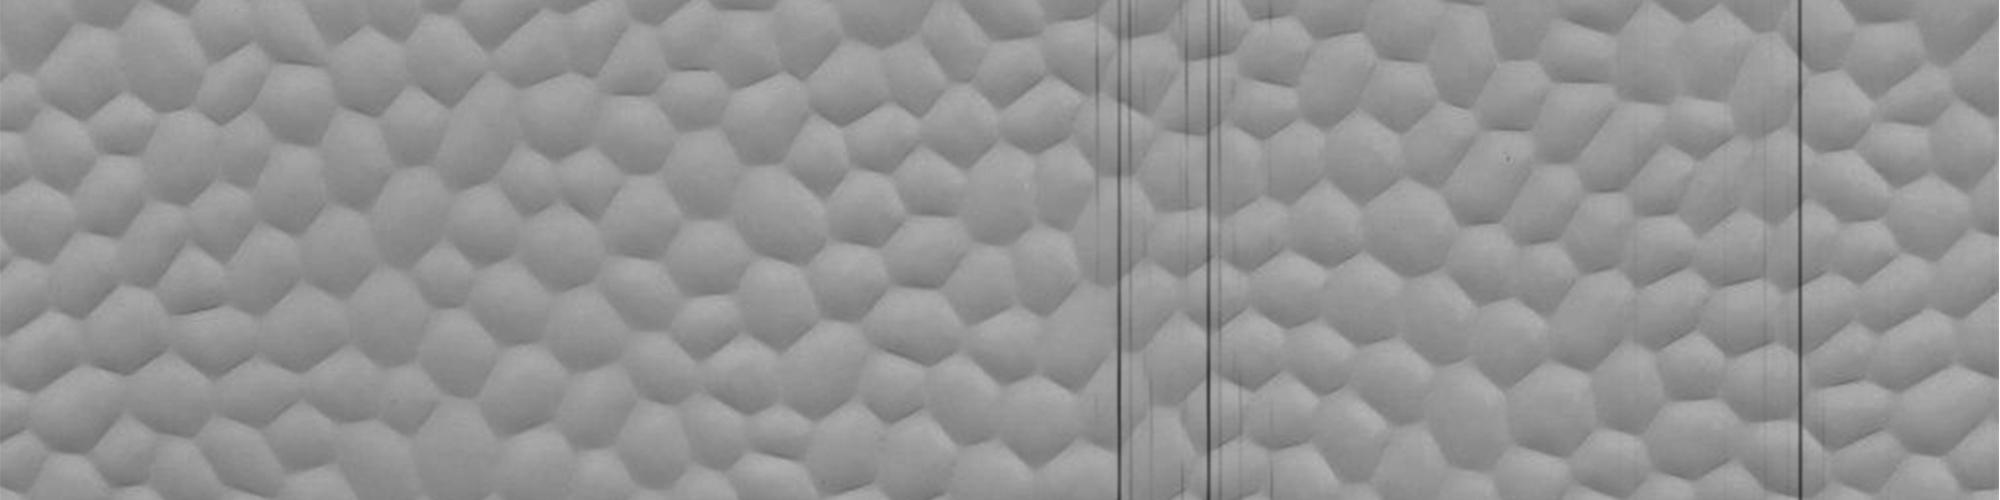DieDrag: (1087, 3, 1291, 497), (1779, 3, 1816, 500)
